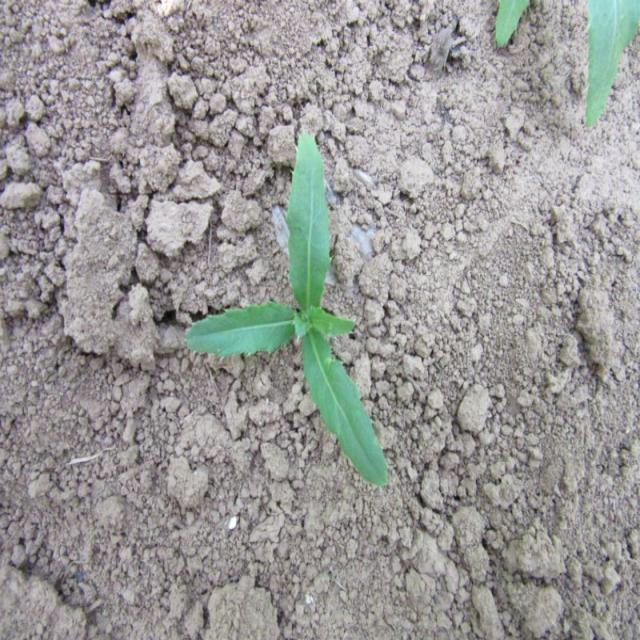field_thistle: (178, 131, 412, 489)
